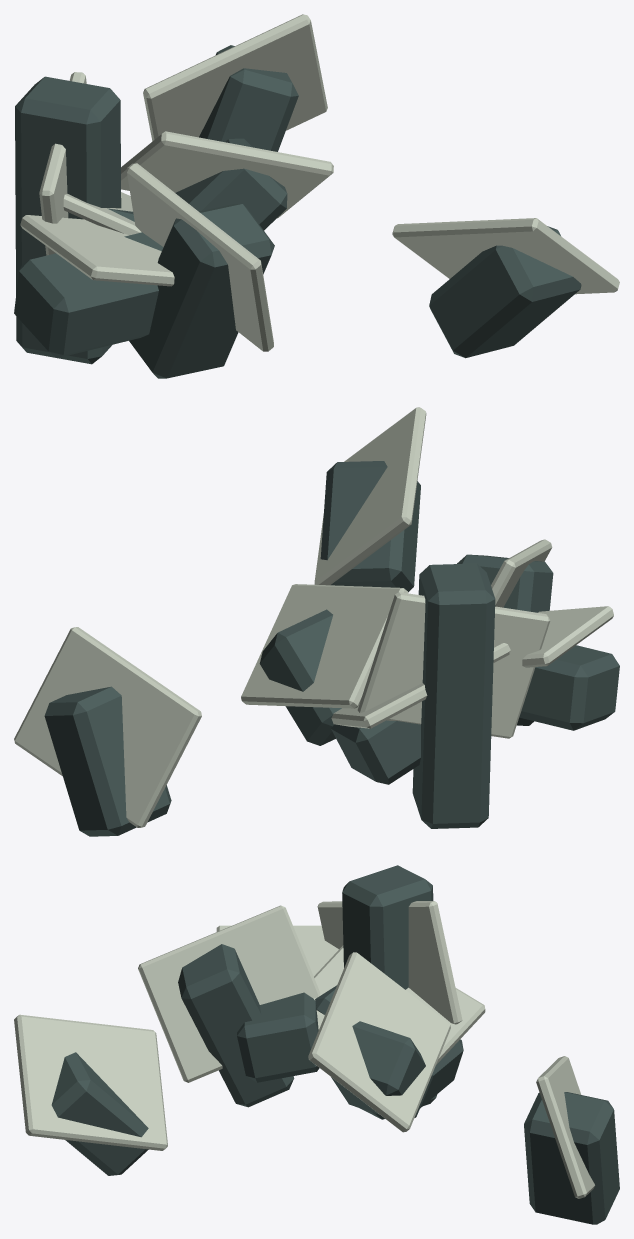
File: SM_MP_Wreck_Salvage.fbx
3 renders of one model, top to bottom at view 1: azimuth 30°, elevation 25°; view 2: azimuth 150°, elevation 25°; view 3: azimuth 270°, elevation 25°, orthographic. The views are drawn at different scales.
Parts seen in each view (by area): view 1: SM_MP_Wreck_Salvage; view 2: SM_MP_Wreck_Salvage; view 3: SM_MP_Wreck_Salvage.
Part boxes in pixels (<box>): SM_MP_Wreck_Salvage: <box>14,14,619,378</box>; SM_MP_Wreck_Salvage: <box>14,407,619,836</box>; SM_MP_Wreck_Salvage: <box>14,865,619,1224</box>.
Bounding box in the file's own units: 145 × 189 × 78.25.
1 material, 1 textured.
